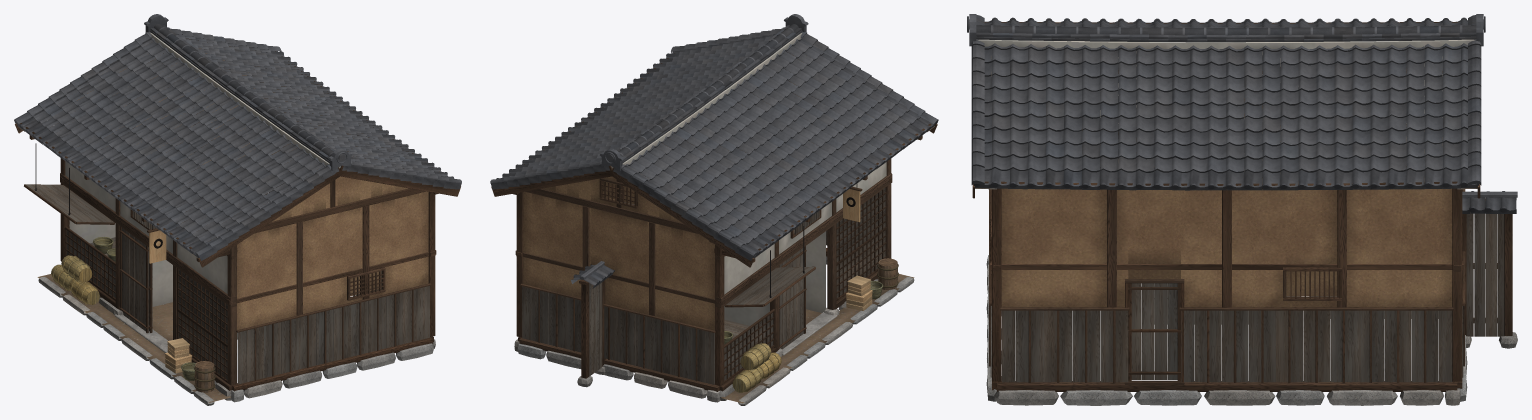
Rendered from machiya_d.glb.
The picture shows the model from 3 angles, left to right: view 1: azimuth 30°, elevation 25°; view 2: azimuth 150°, elevation 25°; view 3: azimuth 270°, elevation 25°; orthographic projection. The views are drawn at different scales.
Visible parts, largest first — view 1: machiya_d_tile_ibushi, machiya_d_wood_dark, machiya_d_plaster_earth, machiya_d_wood_weathered, machiya_d_stone_granite, machiya_d_plaster_white, machiya_d_earth_floor, machiya_d_plaster_white#0.8, machiya_d_straw, machiya_d_wood_fresh, machiya_d_straw#olive, machiya_d_tile_manju (+1 smaller); view 2: machiya_d_tile_ibushi, machiya_d_wood_dark, machiya_d_plaster_earth, machiya_d_wood_weathered, machiya_d_stone_granite, machiya_d_plaster_white, machiya_d_plaster_white#0.8, machiya_d_earth_floor, machiya_d_straw, machiya_d_wood_fresh, machiya_d_tile_manju, machiya_d_wood_aged; view 3: machiya_d_tile_ibushi, machiya_d_plaster_earth, machiya_d_wood_weathered, machiya_d_wood_dark, machiya_d_stone_granite, machiya_d_plaster_white, machiya_d_tile_manju.
Boxes of the visible parts, x1,y1,x2,y2 form: machiya_d_tile_ibushi: (14,14,461,260); machiya_d_wood_dark: (15,38,460,391); machiya_d_plaster_earth: (77,48,428,330); machiya_d_wood_weathered: (18,42,429,384); machiya_d_stone_granite: (38,277,435,405); machiya_d_plaster_white: (65,33,340,293); machiya_d_earth_floor: (37,274,230,402); machiya_d_plaster_white#0.8: (69,220,237,339); machiya_d_straw: (51,255,100,304); machiya_d_wood_fresh: (149,230,192,373); machiya_d_straw#olive: (93,237,196,380); machiya_d_tile_manju: (19,51,454,257); machiya_d_tile_ibushi: (490,14,938,288); machiya_d_wood_dark: (491,52,937,391); machiya_d_plaster_earth: (523,55,813,330); machiya_d_wood_weathered: (522,114,934,384); machiya_d_stone_granite: (514,256,914,405); machiya_d_plaster_white: (611,33,886,294); machiya_d_plaster_white#0.8: (667,231,825,383); machiya_d_earth_floor: (721,274,914,403); machiya_d_straw: (732,343,781,392); machiya_d_wood_fresh: (843,189,872,310); machiya_d_tile_manju: (496,53,937,284); machiya_d_wood_aged: (878,258,897,290); machiya_d_tile_ibushi: (967,14,1517,213); machiya_d_plaster_earth: (1001,98,1452,307); machiya_d_wood_weathered: (975,56,1504,382); machiya_d_wood_dark: (972,22,1512,391); machiya_d_stone_granite: (986,255,1517,405); machiya_d_plaster_white: (978,39,1474,123); machiya_d_tile_manju: (973,17,1506,212).
Size of the model in its own units: 6.4 by 5.37 by 8.38.
Materials: 14 (12 with a texture image).
